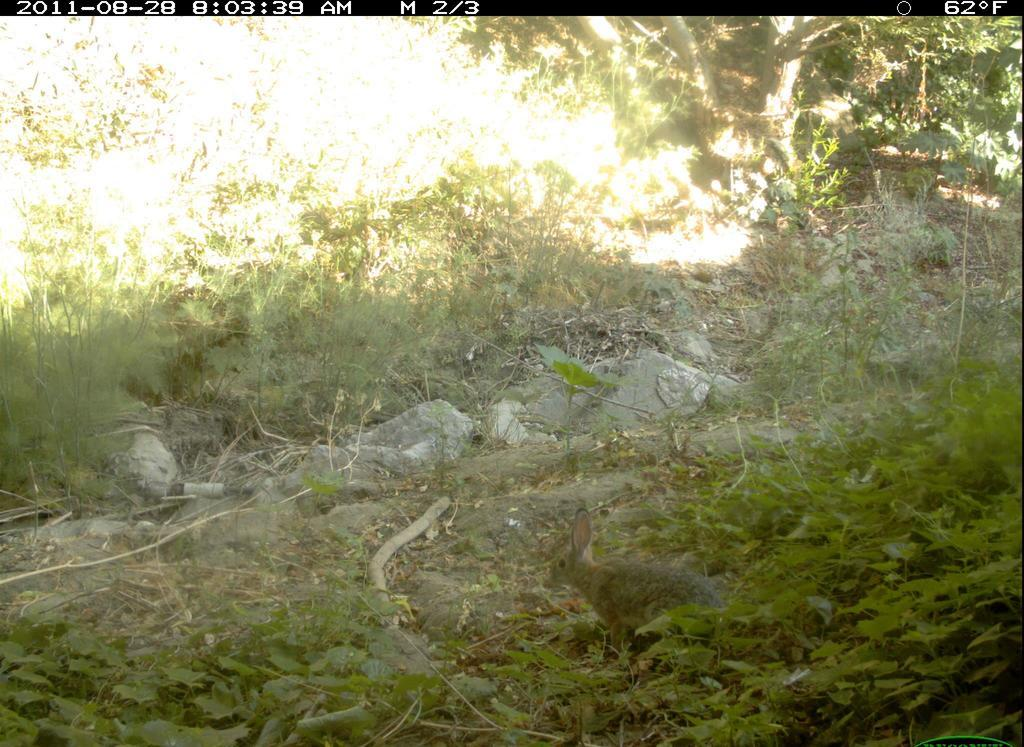rabbit: (539, 505, 739, 653)
